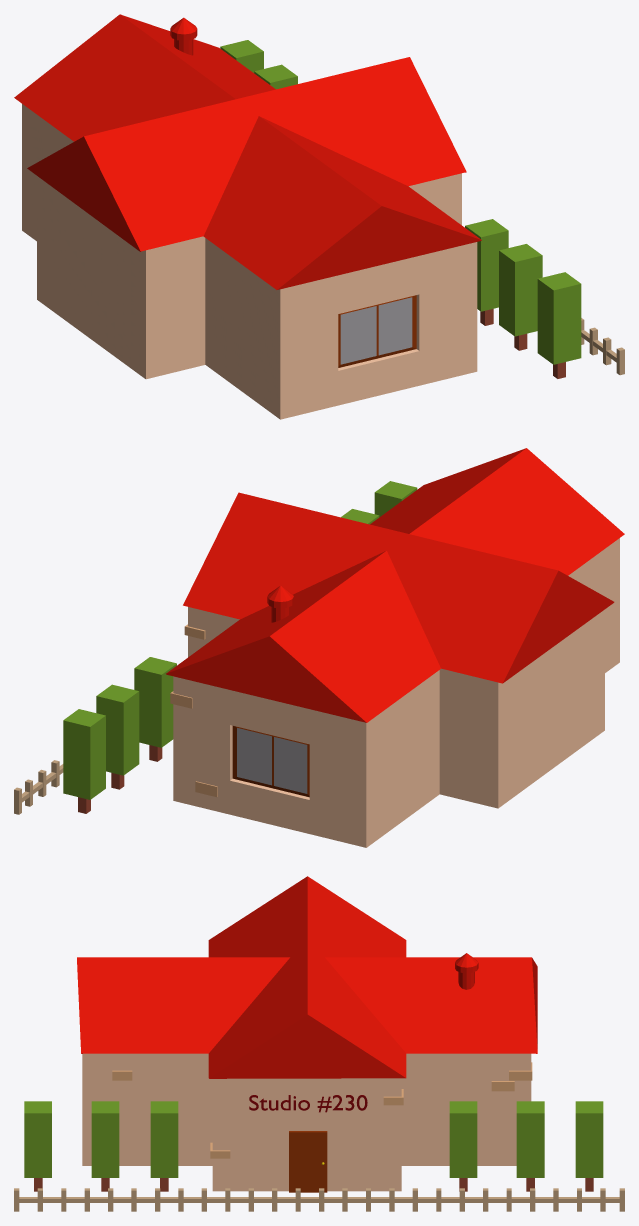
The model's file is RichBuilding.fbx.
3 renders of one model, top to bottom at view 1: azimuth 30°, elevation 25°; view 2: azimuth 150°, elevation 25°; view 3: azimuth 270°, elevation 25°, orthographic. The views are drawn at different scales.
Visible parts, largest first — view 1: Building, Cube, Cube.001; view 2: Building, Cube, Cube.001; view 3: Building, Cube, Cube.001, Text.
Part boxes in pixels (x1,y1,x2,y2): Building: [14, 14, 481, 419]; Cube: [220, 40, 581, 378]; Cube.001: [581, 318, 624, 375]; Building: [166, 448, 624, 847]; Cube: [63, 481, 417, 813]; Cube.001: [14, 760, 63, 814]; Building: [77, 876, 537, 1192]; Cube: [24, 1101, 603, 1191]; Cube.001: [14, 1188, 624, 1211]; Text: [249, 1095, 367, 1112].
Size of the model in its own units: 1536 by 828 by 2515.
